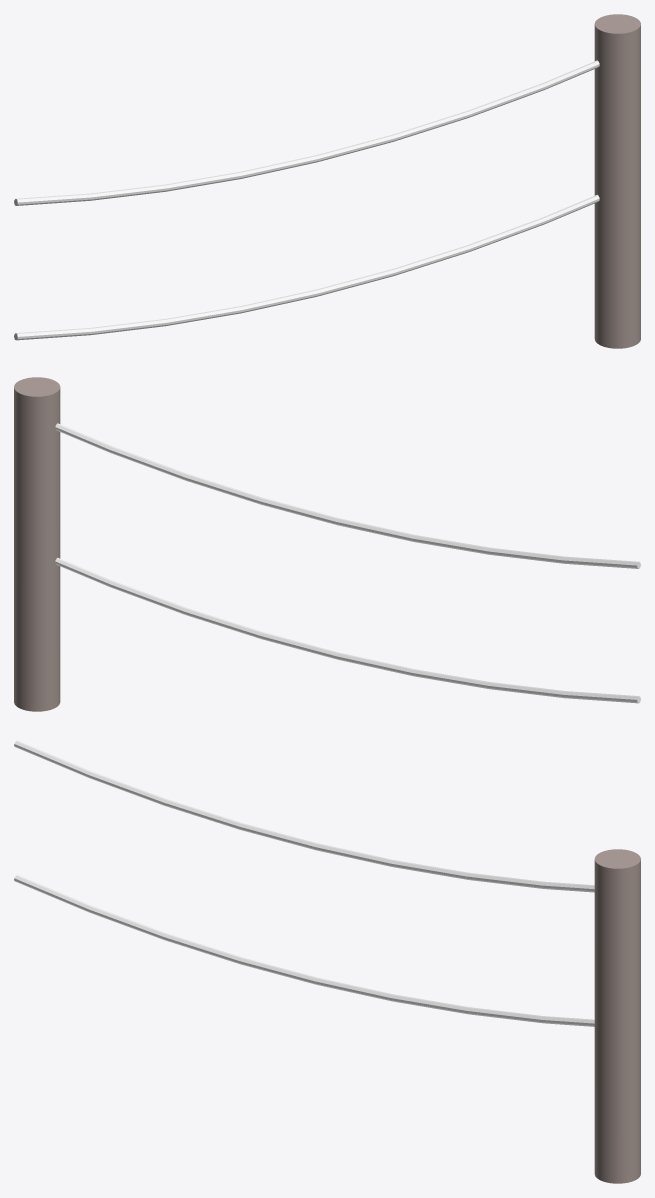
The model's file is 1038_fence_connect.glb.
3 views of the same model, one above another, from view 1: azimuth 30°, elevation 25°; view 2: azimuth 150°, elevation 25°; view 3: azimuth 330°, elevation 25° (orthographic).
Visible parts, largest first — view 1: Body; view 2: Body; view 3: Body.
Boxes of the visible parts, <box> form: Body: <box>14,14,640,348</box>; Body: <box>14,377,640,711</box>; Body: <box>14,740,640,1183</box>.
Size of the model in its own units: 1.55 by 0.75 by 0.1.
